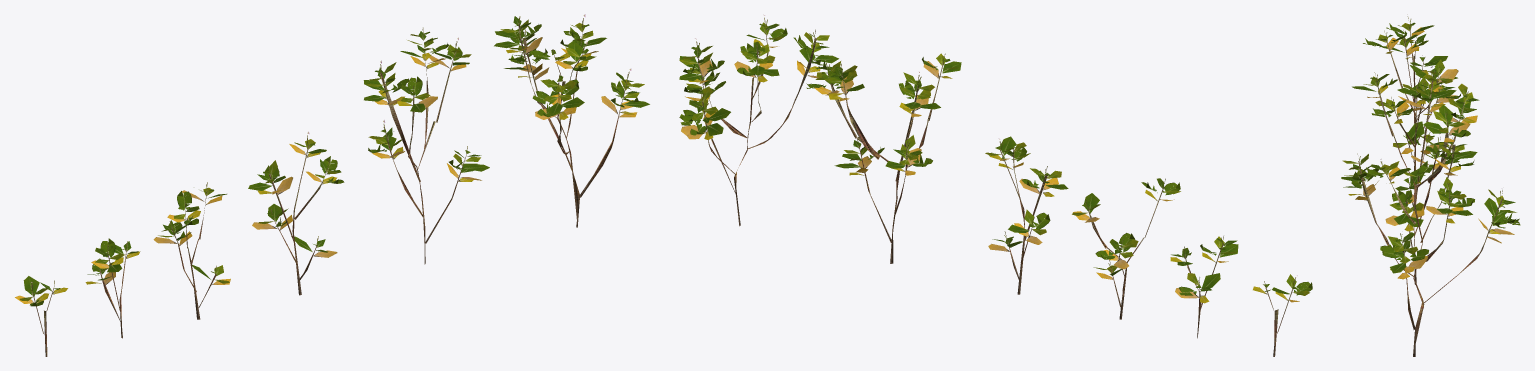
Rendered from ph_periwinkle_plant.glb.
3 views of the same model, side by side, from view 1: azimuth 30°, elevation 25°; view 2: azimuth 150°, elevation 25°; view 3: azimuth 270°, elevation 25° (orthographic). The views are drawn at different scales.
Visible parts, largest first — view 1: periwinkle_plant_04_LOD0; view 2: periwinkle_plant_04_LOD0; view 3: periwinkle_plant_04_LOD0.
Boxes of the visible parts, bbox=[...] form: periwinkle_plant_04_LOD0: bbox=[15, 14, 649, 356]; periwinkle_plant_04_LOD0: bbox=[679, 14, 1312, 356]; periwinkle_plant_04_LOD0: bbox=[1341, 14, 1520, 356].
Size of the model in its own units: 1.24 by 0.4006 by 0.3142.
1 material, 1 textured.
